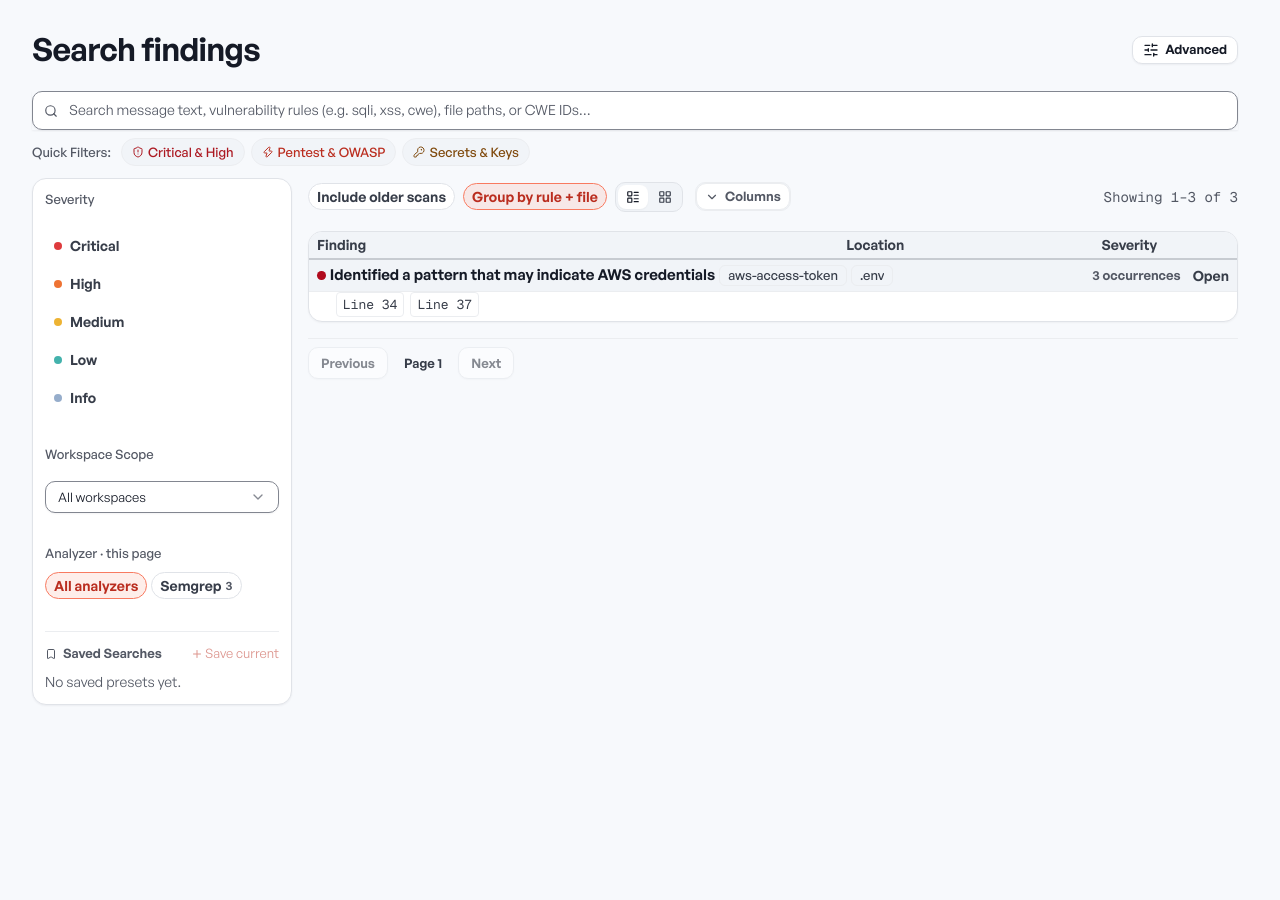
Scenario: SearchPage › groups consecutive same rule+file results into one header with deduped occurrence lines
Expected: the row with class "search-group-row" is shown, [309,260,1237,291]
Expected: the row with class "search-group-row" shows "Identified a pattern that may indicate AWS credentials", [330,265,715,284]
Click the button with class "chip" showing "Group by rule + file".
click(535, 197)  # box [463,183,607,210]
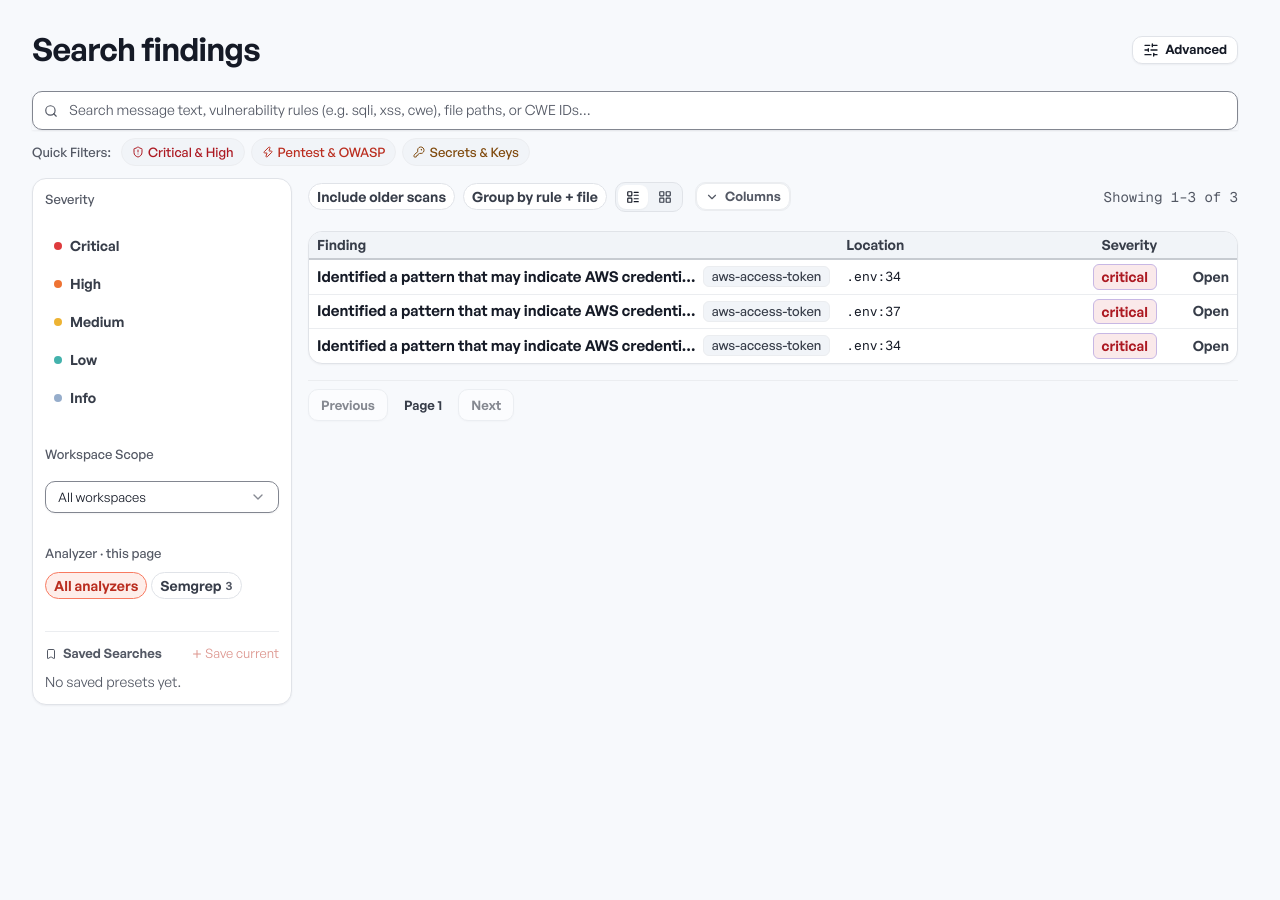
Now no rows with class "search-group-row" are shown
